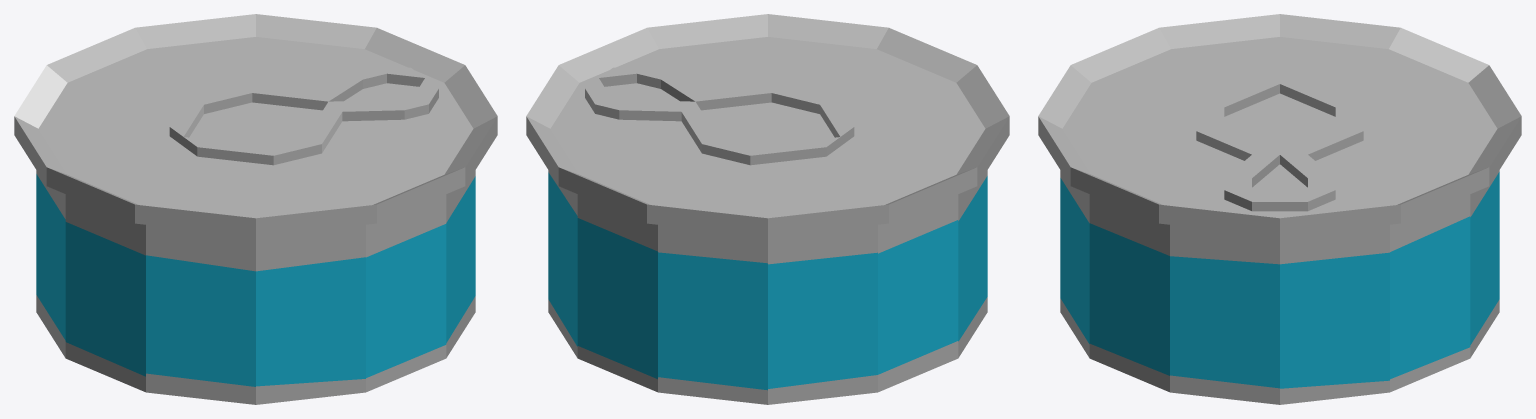
Rendered from сan_close.fbx.
3 views of the same model, side by side, from view 1: azimuth 30°, elevation 25°; view 2: azimuth 150°, elevation 25°; view 3: azimuth 270°, elevation 25° (orthographic).
Parts seen in each view (by area): view 1: model3:mesh1343031588, model3:mesh1945423103; view 2: model3:mesh1343031588, model3:mesh1945423103; view 3: model3:mesh1343031588, model3:mesh1945423103.
Part boxes in pixels (x1,y1,x2,y2): model3:mesh1343031588: (14,14,497,404); model3:mesh1945423103: (169,63,438,165); model3:mesh1343031588: (526,14,1009,404); model3:mesh1945423103: (585,63,854,165); model3:mesh1343031588: (1038,14,1521,404); model3:mesh1945423103: (1196,84,1363,211).
Size of the model in its own units: 11.92 by 5.33 by 11.92.
